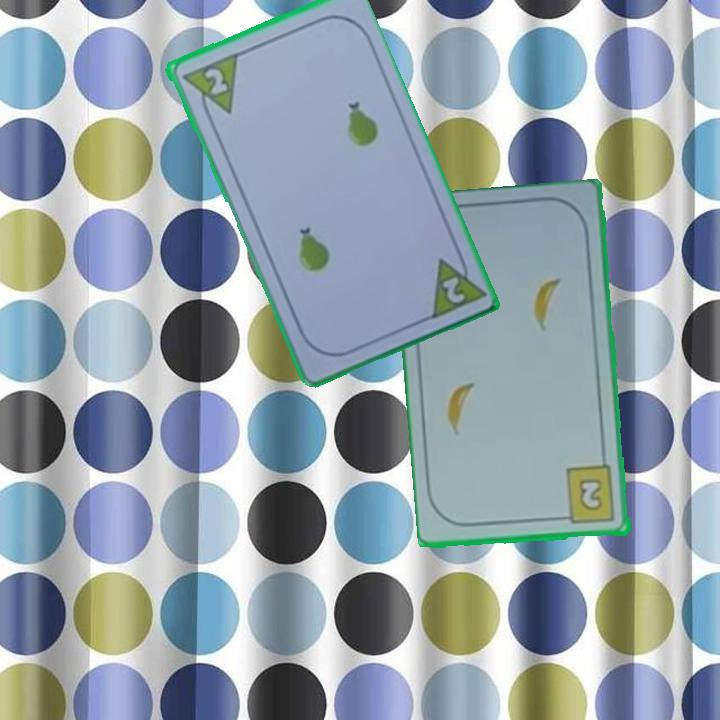2b: (557, 463, 618, 527)
2p: (424, 245, 486, 323), (177, 49, 240, 124)
